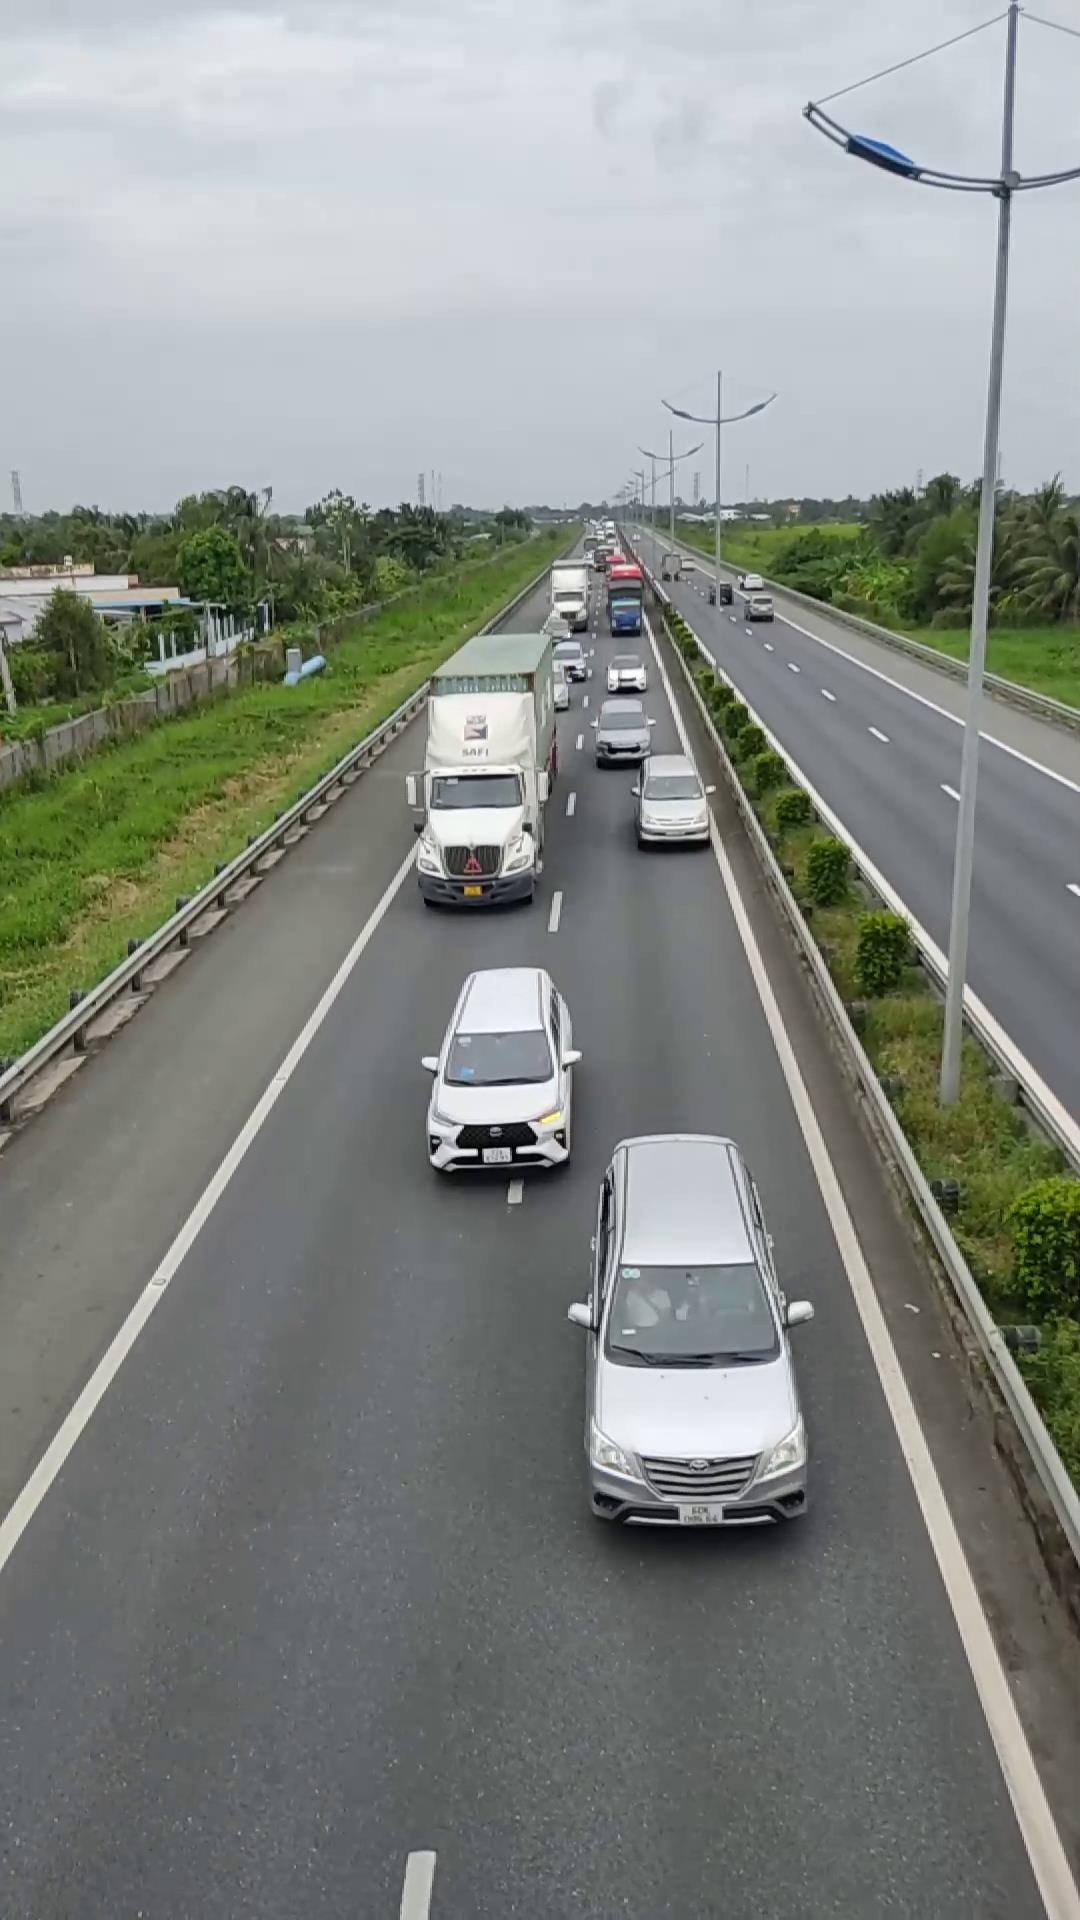car: (572, 1131, 814, 1530), (419, 965, 582, 1178), (630, 753, 713, 848)
container: (411, 629, 556, 906)
